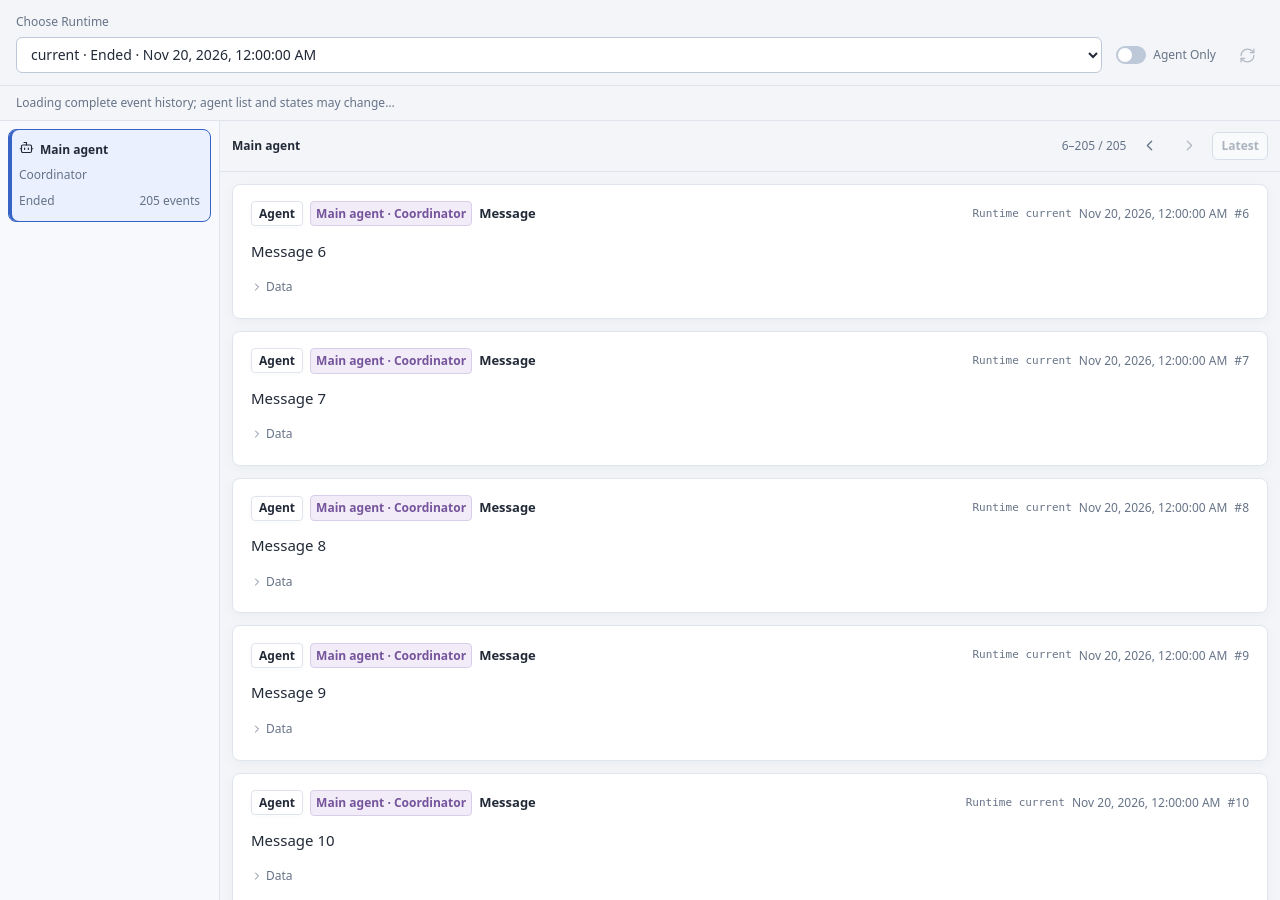
it: limits rendered messages to 200, preserves order, and pages to earlier messages
Click the button named "Previous page" at (1150,146), box left=1132, top=129, right=1166, bottom=163
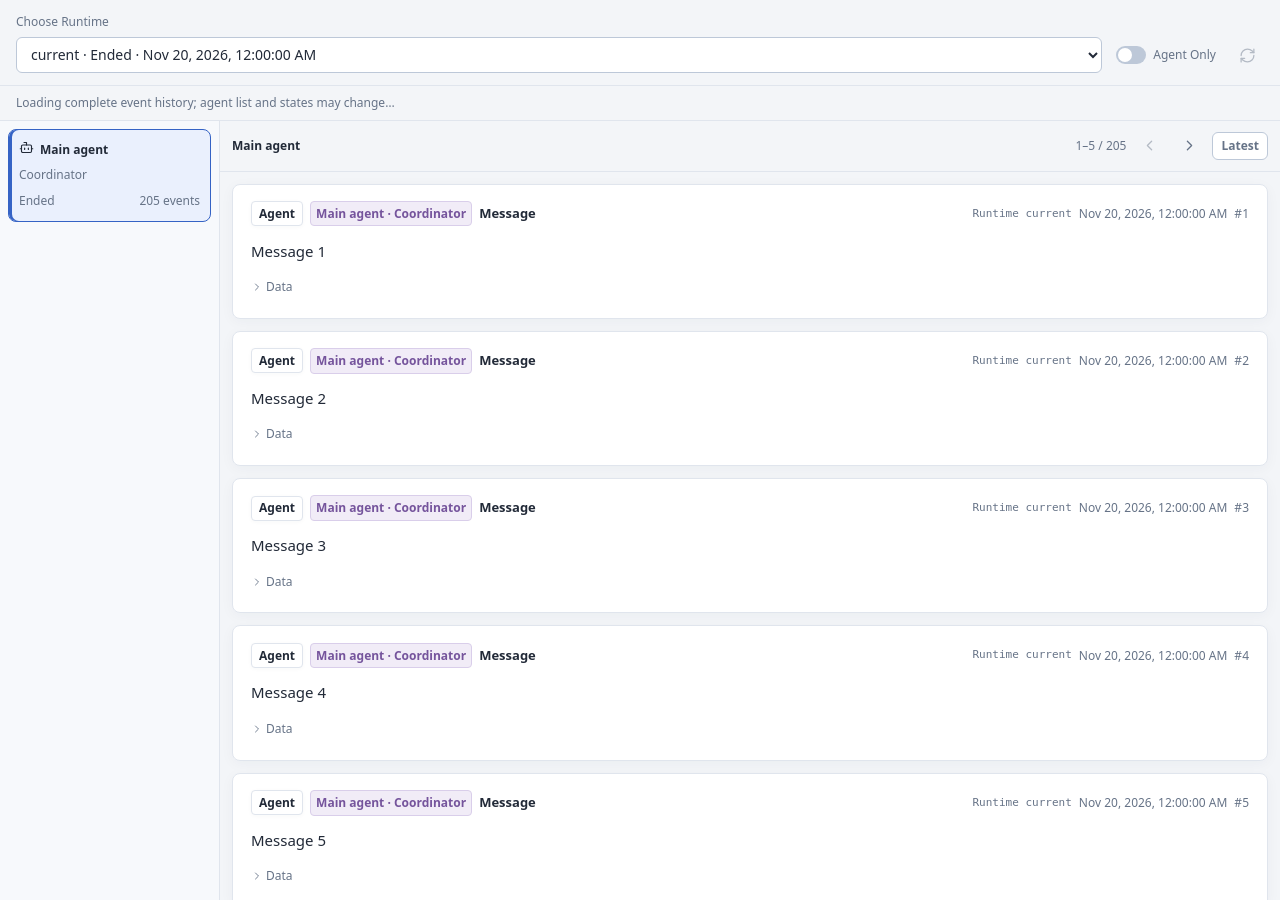
Expected: the number of elements with class "event-row" is 5, left=232, top=184, right=1268, bottom=319; left=232, top=331, right=1268, bottom=466; left=232, top=478, right=1268, bottom=614; left=232, top=626, right=1268, bottom=761; left=232, top=773, right=1268, bottom=899
Now the text "Message 1" is shown, box left=251, top=241, right=326, bottom=261
Click the button "Latest" at (1240,146), box left=1212, top=132, right=1268, bottom=160
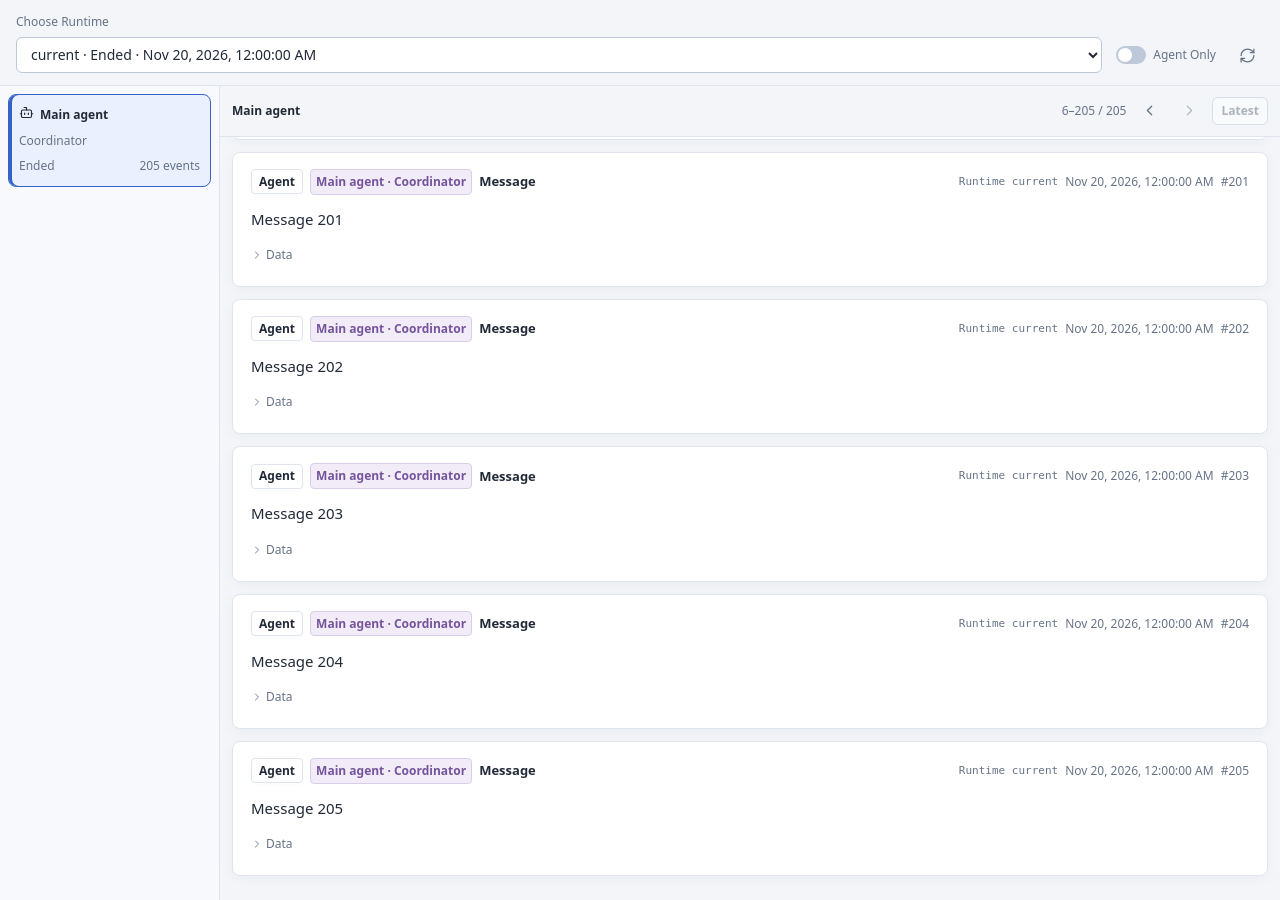
Now the text "Message 205" is shown, box left=251, top=798, right=343, bottom=818
